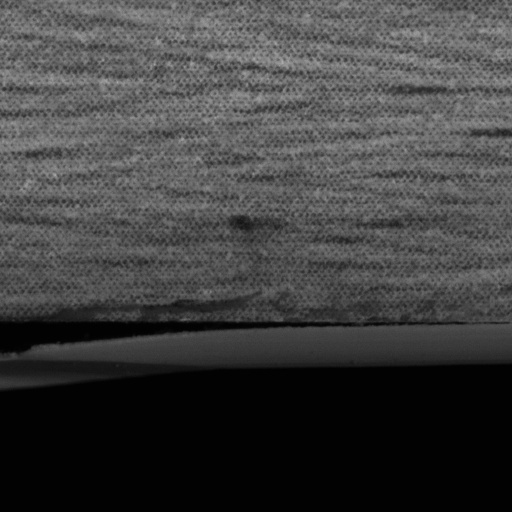kaijiao: (0, 312, 511, 395)
